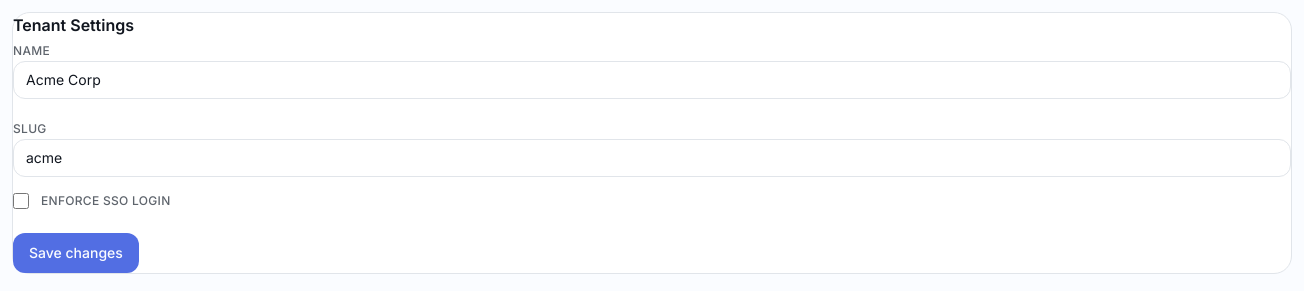
Scenario: TenantForm › shows error feedback on API failure
What coordinates should you click on to do the following:
click the button "Save changes"
I would click on:
 (76, 253)
Its box is [13,233,139,273].
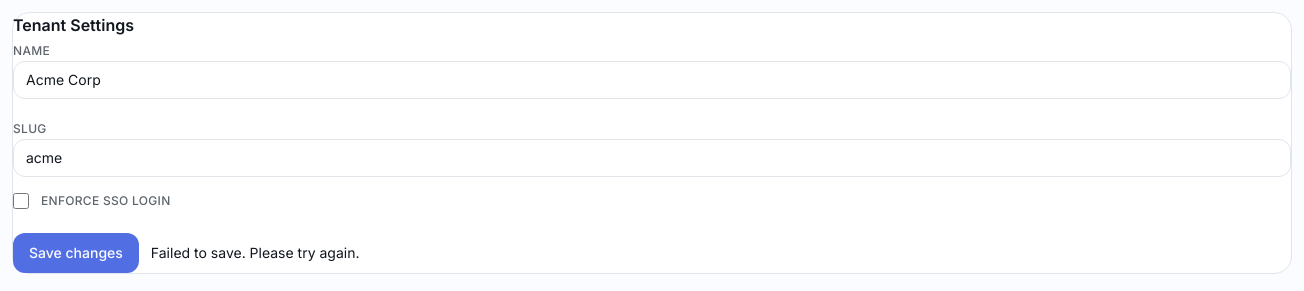
Check: the text "Failed to save. Please try again." is shown, box [151,243,360,263]
